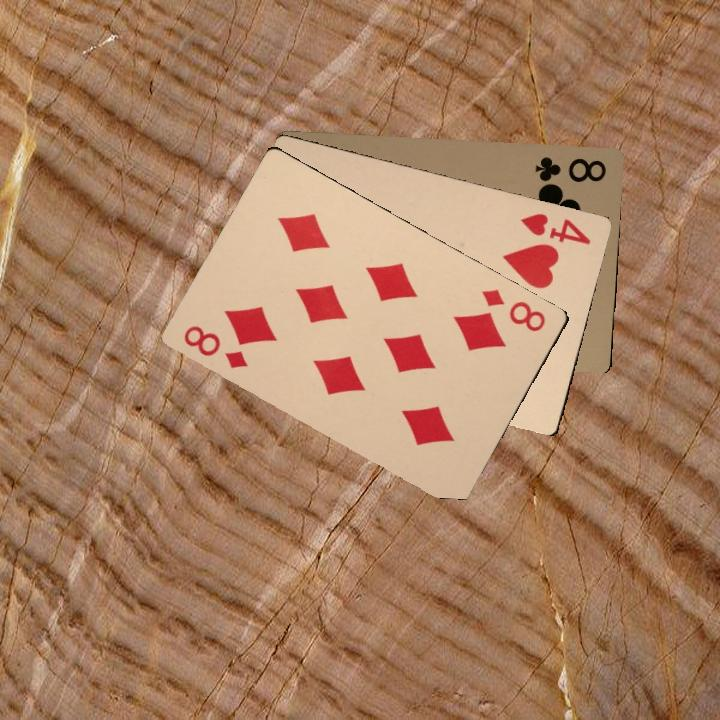4h: (516, 209, 593, 247)
8c: (531, 153, 608, 187)
8d: (179, 321, 251, 371), (477, 285, 548, 335)
